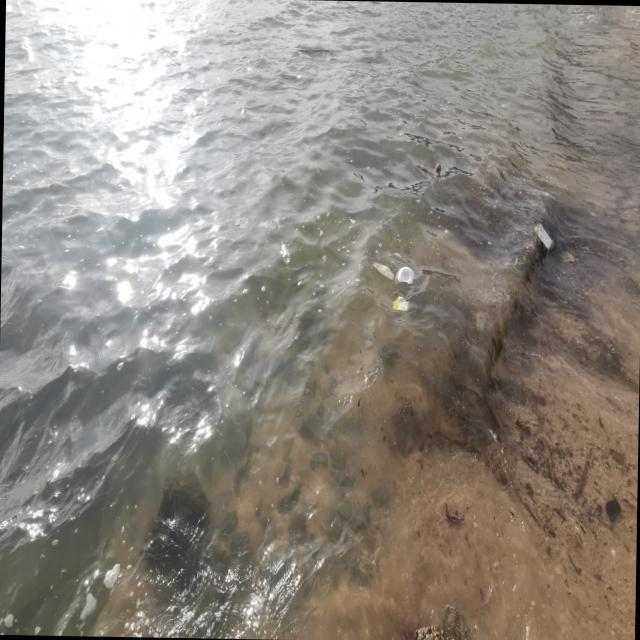foam: (534, 224, 555, 254), (396, 267, 418, 287)
plastic bottle: (281, 242, 291, 266)
